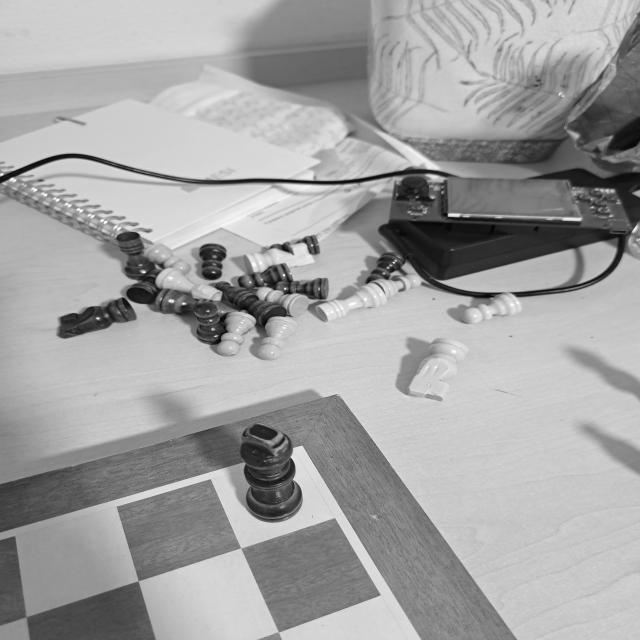chess-table-corners: (292, 439, 312, 452)
